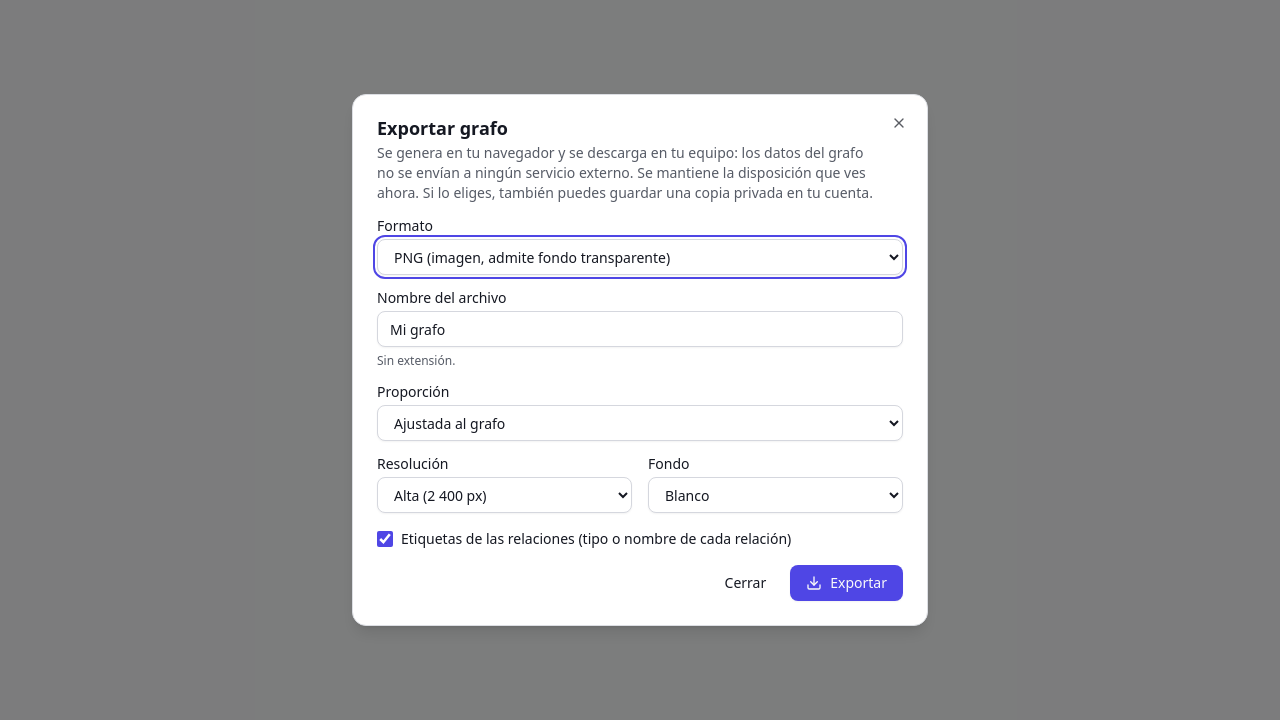
ExportDialog › si falla muestra el motivo, no descarga y deja reintentar o cambiar de formato
The width and height of the screenshot is (1280, 720).
Click the button "Exportar".
click(847, 583)  # box [790,565,903,601]
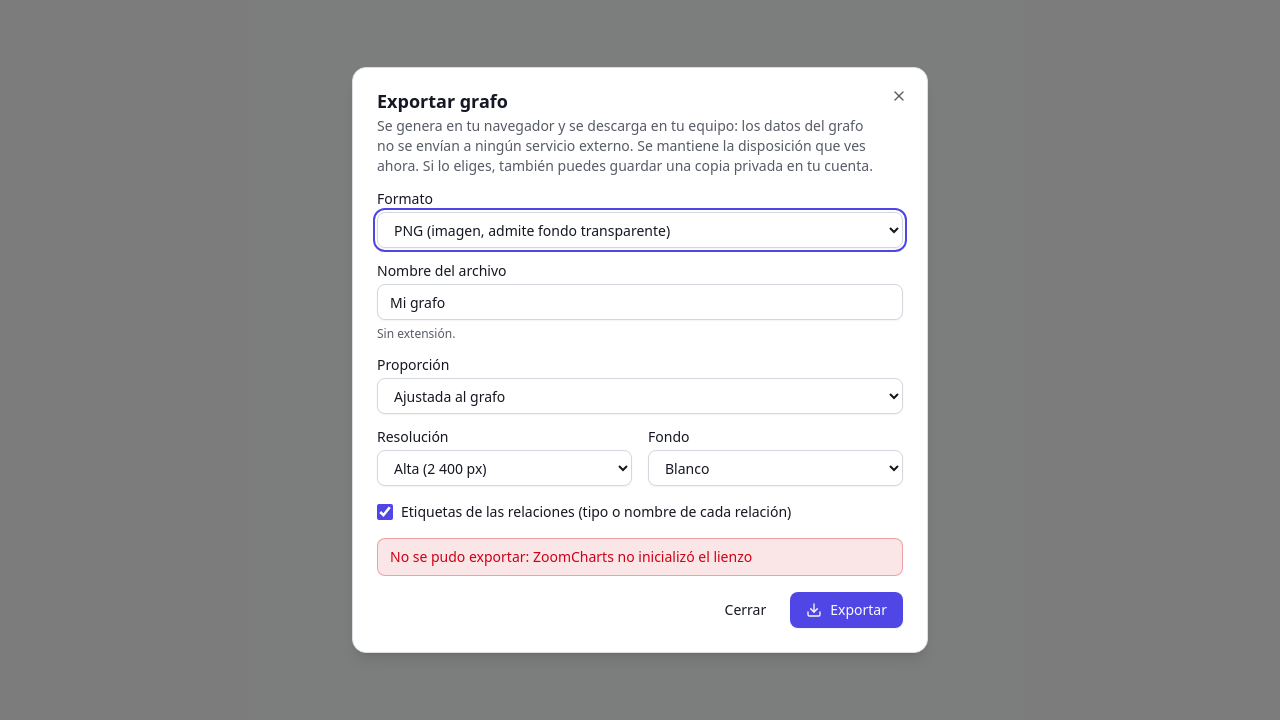
Expected: the button "Exportar" is enabled, [790,592,903,628]
Now the message reads "No se pudo exportar: ZoomCharts no inicializó el lienzo", box [390,547,752,566]
